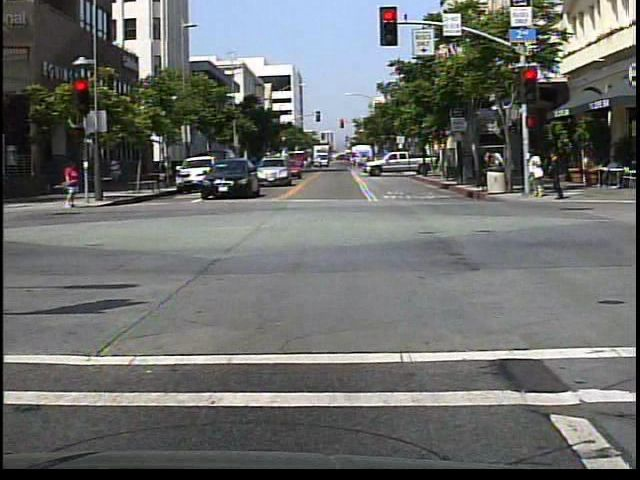person: (545, 147, 571, 203), (65, 159, 85, 211), (529, 145, 547, 200)
